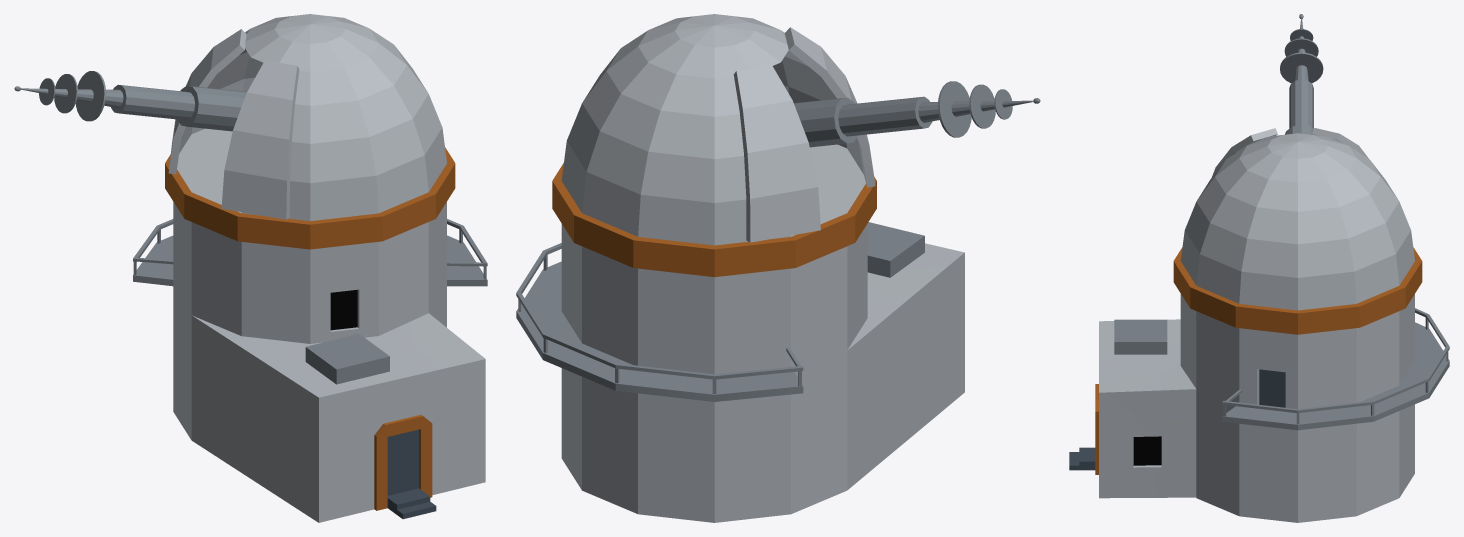
Rendered from laservatory_lvl1.fbx.
The picture shows the model from 3 angles, left to right: view 1: azimuth 30°, elevation 25°; view 2: azimuth 150°, elevation 25°; view 3: azimuth 270°, elevation 25°; orthographic projection. The views are drawn at different scales.
Parts seen in each view (by area): view 1: pDisc2; view 2: pDisc2; view 3: pDisc2.
Part boxes in pixels (<box>): pDisc2: <box>14,14,487,522</box>; pDisc2: <box>516,14,1040,522</box>; pDisc2: <box>1069,14,1449,522</box>.
Bounding box in the file's own units: 1647 × 1389 × 1418.
